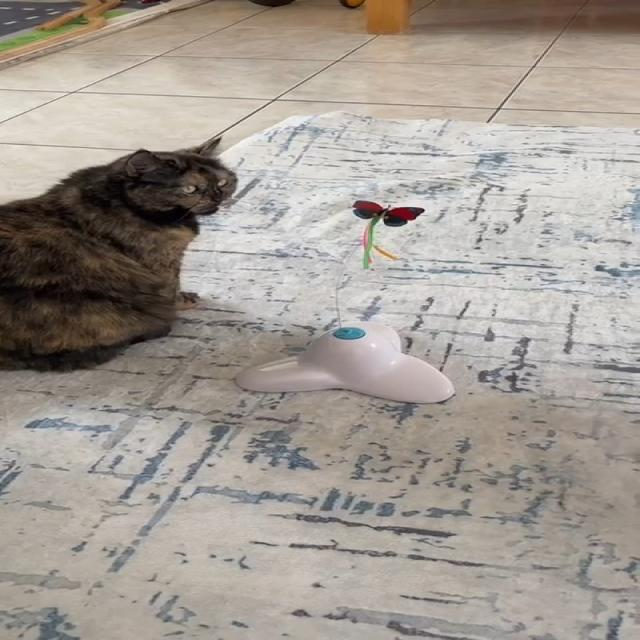authorized: (0, 134, 237, 372)
